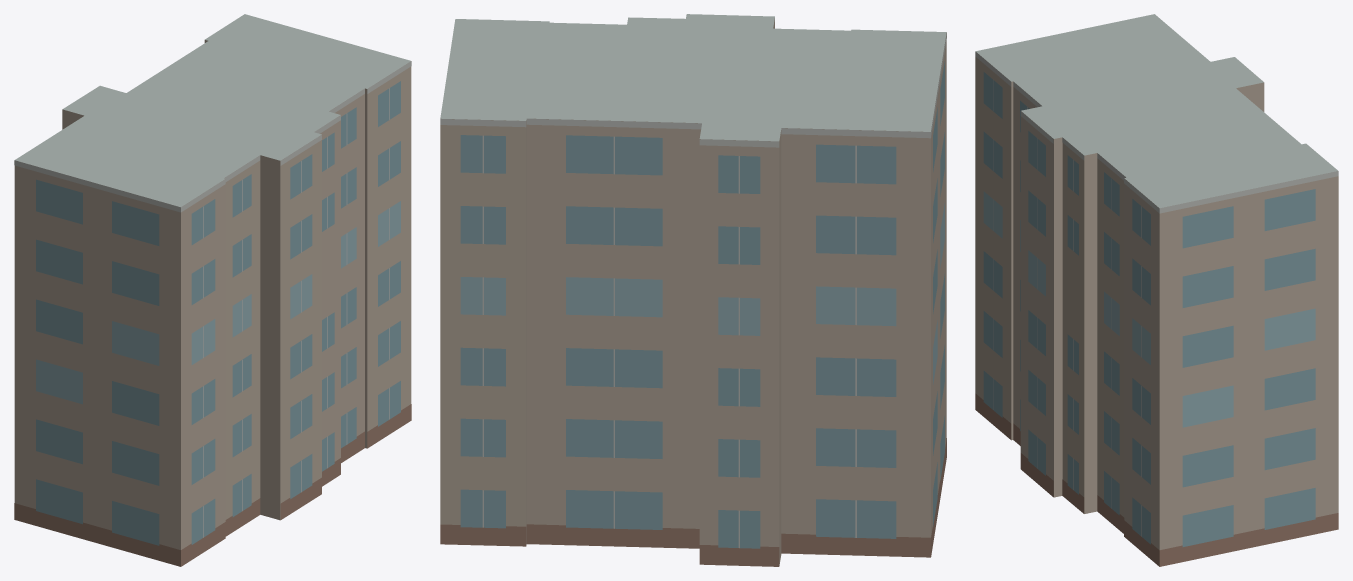
The model's file is survey-upis-32740879.glb.
The picture shows the model from 3 angles, left to right: view 1: azimuth 30°, elevation 25°; view 2: azimuth 150°, elevation 25°; view 3: azimuth 270°, elevation 25°; orthographic projection. The views are drawn at different scales.
Visible parts, largest first — view 1: survey-upis-32740879.tmp; view 2: survey-upis-32740879.tmp; view 3: survey-upis-32740879.tmp.
Boxes of the visible parts, x1,y1,x2,y2 form: survey-upis-32740879.tmp: (14, 14, 411, 566); survey-upis-32740879.tmp: (440, 14, 946, 566); survey-upis-32740879.tmp: (975, 14, 1338, 566).
Bounding box in the file's own units: 19.42 × 16.7 × 15.34.
